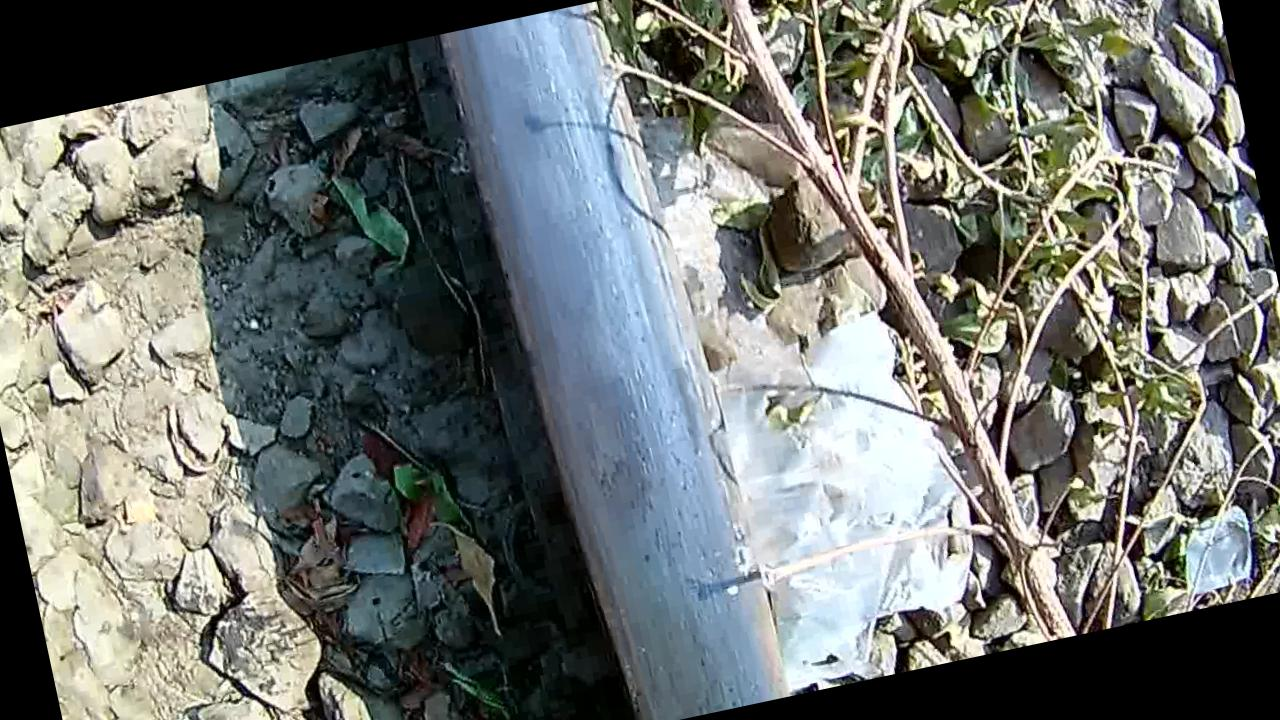bolt_missing: (514, 302, 699, 575)
